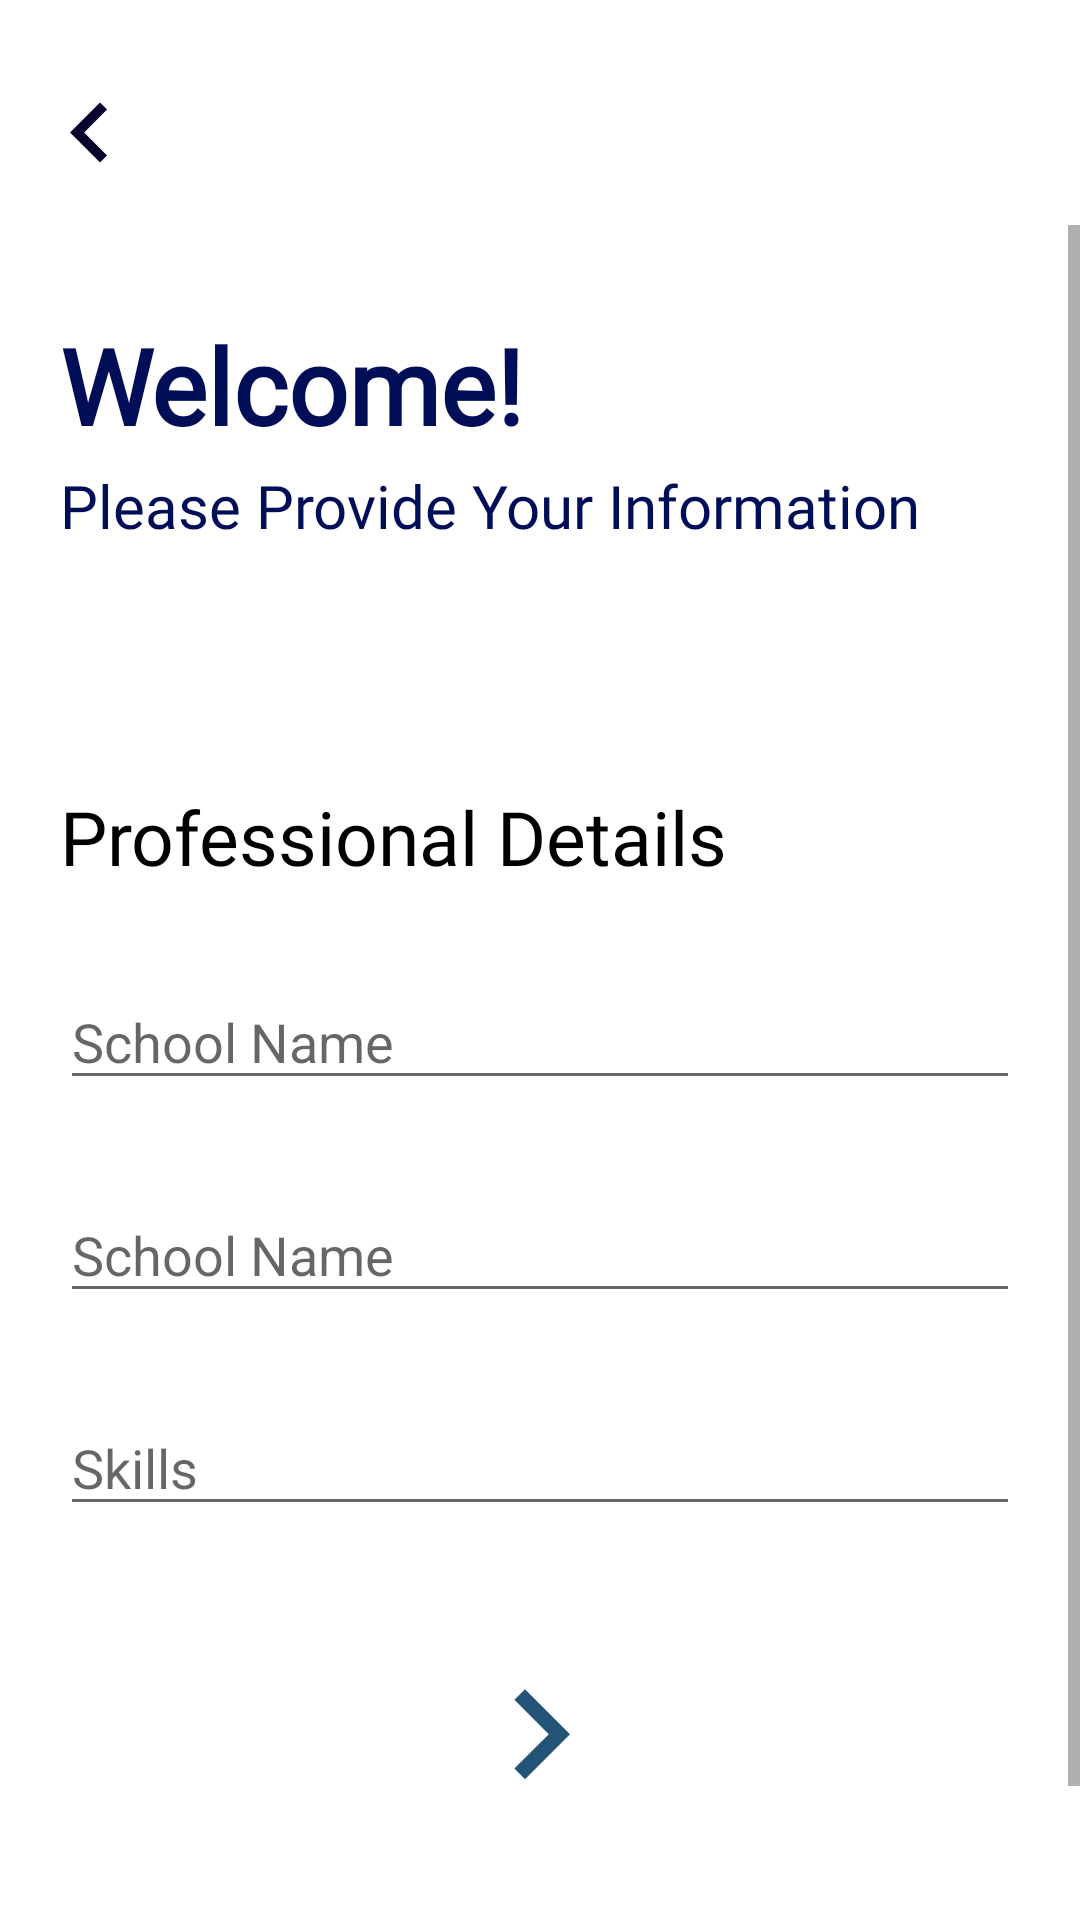

Icon bounding boxes for this 1080px×1920px phone screenshot, format box(x1, y1, x2, y2):
back: box(70, 102, 107, 163)
next: box(514, 1689, 570, 1779)
